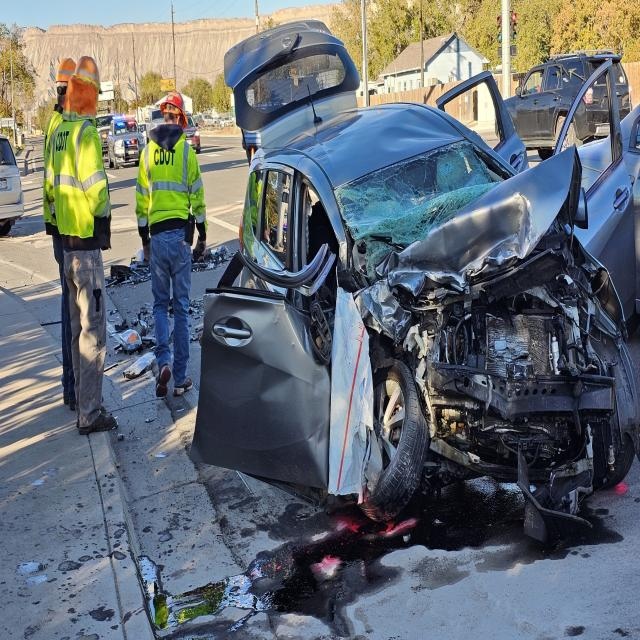Accident: (190, 0, 640, 568)
